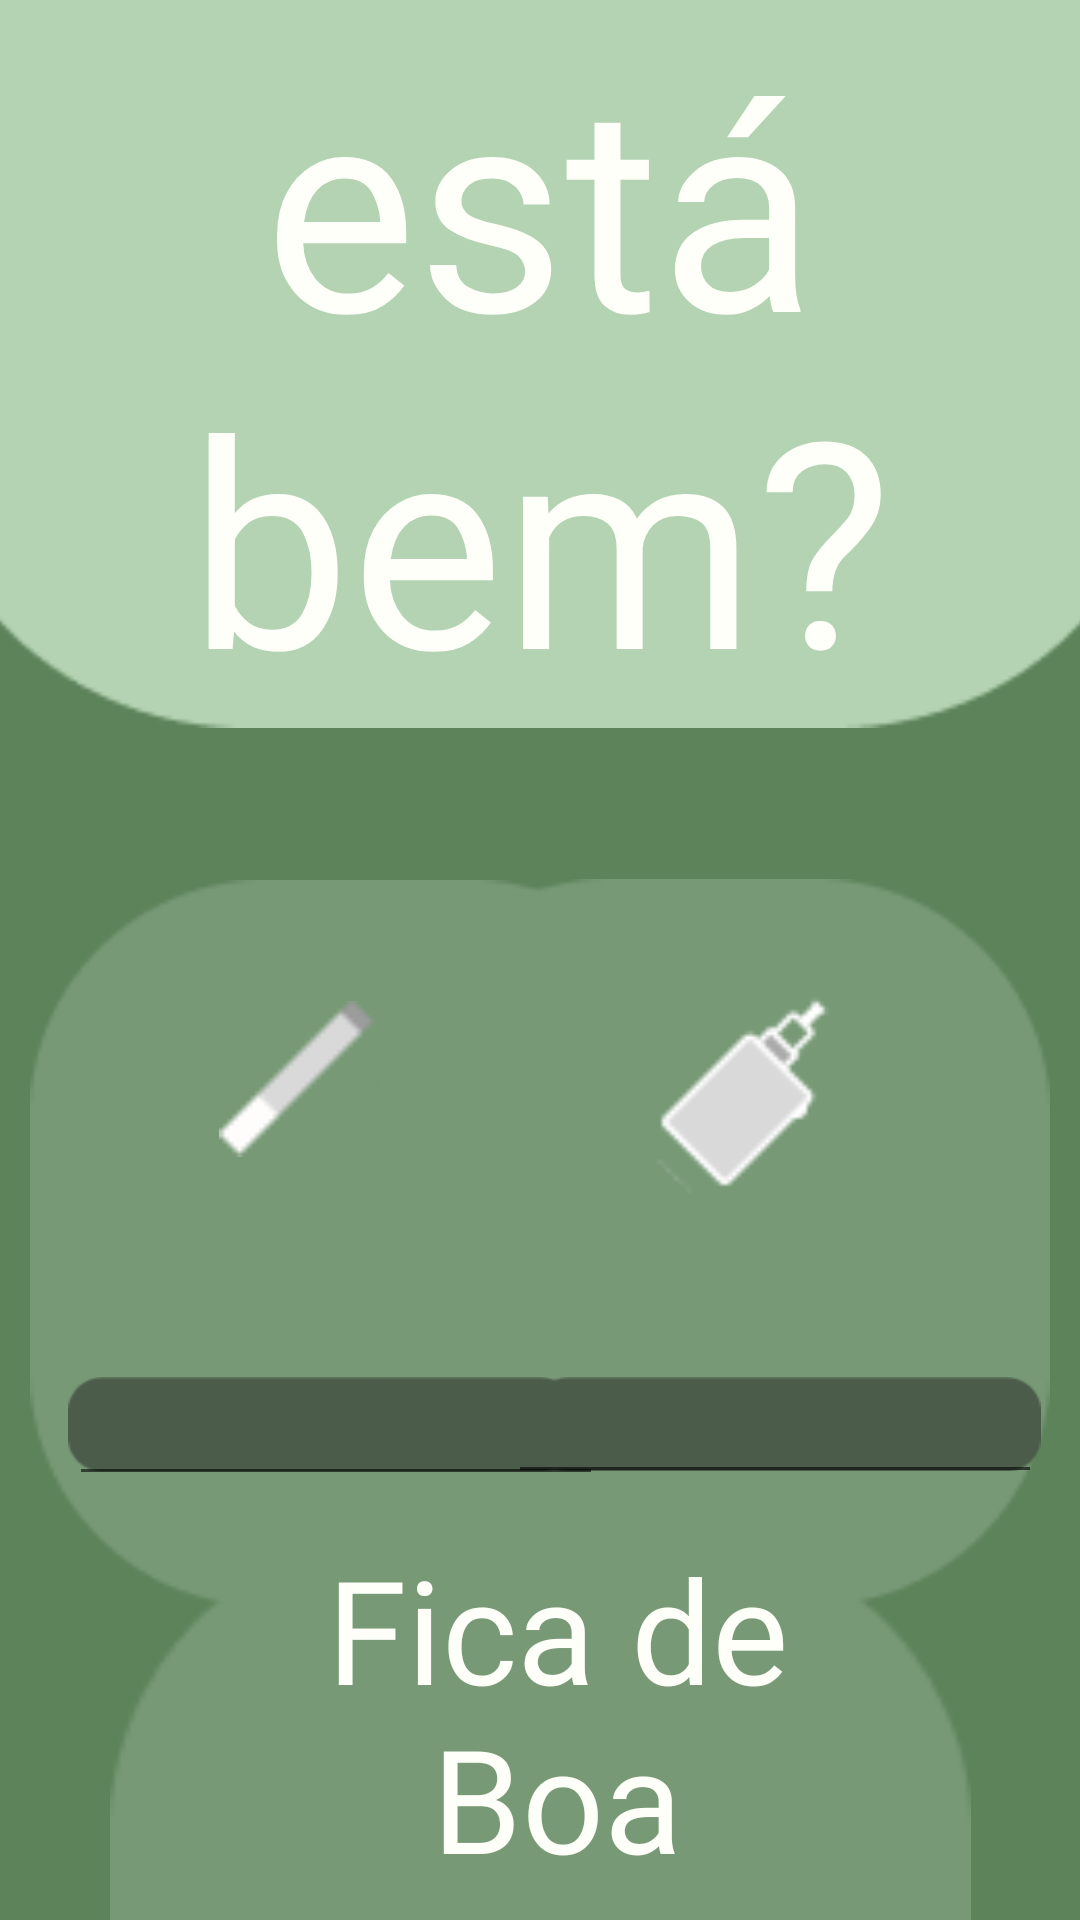

Where to tap for icons on this 1080px x 1920px app screen, as (x,y):
cigarro: (294,1080)
vaperrrr: (743,1093)
